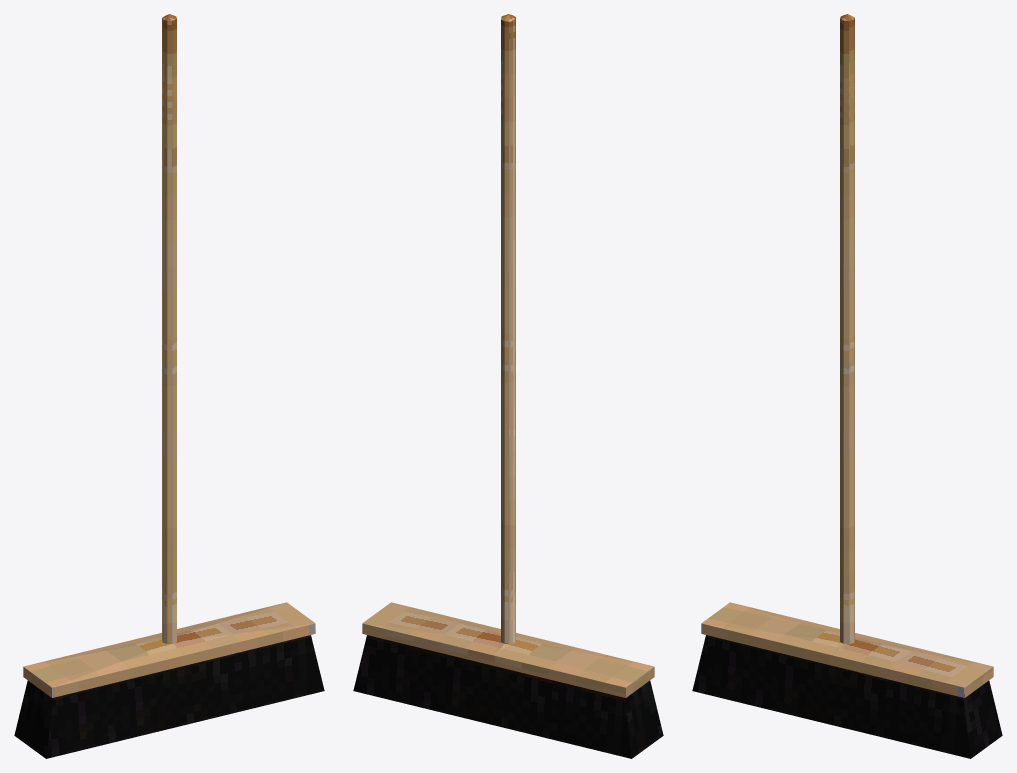
The model's file is broom.glb.
3 views of the same model, side by side, from view 1: azimuth 30°, elevation 25°; view 2: azimuth 150°, elevation 25°; view 3: azimuth 330°, elevation 25° (orthographic).
Parts seen in each view (by area): view 1: Cube; view 2: Cube; view 3: Cube.
Part boxes in pixels (<box>): Cube: <box>14,14,324,758</box>; Cube: <box>353,14,663,758</box>; Cube: <box>692,14,1002,758</box>.
Size of the model in its own units: 1.01 by 2.41 by 0.1991.
Materials: 1 (1 with a texture image).
